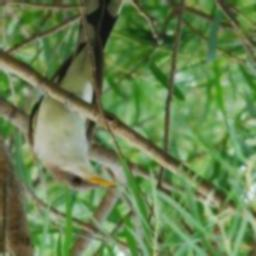Cuckoo: (28, 0, 126, 192)
